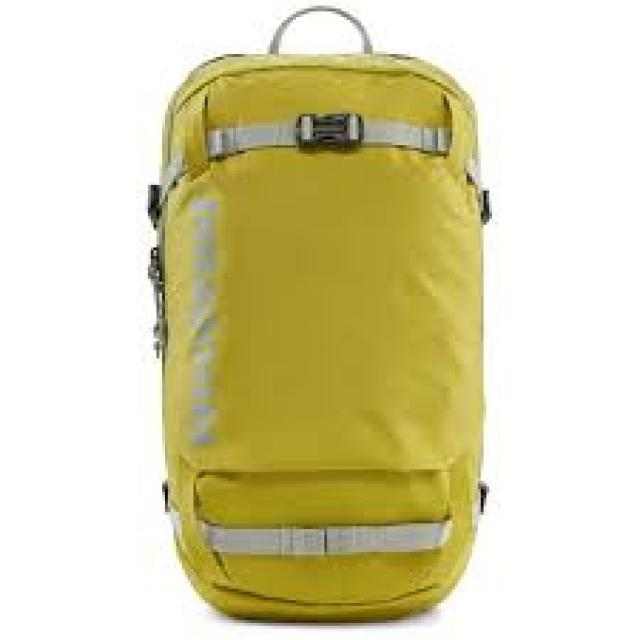backpack: (145, 3, 492, 623)
